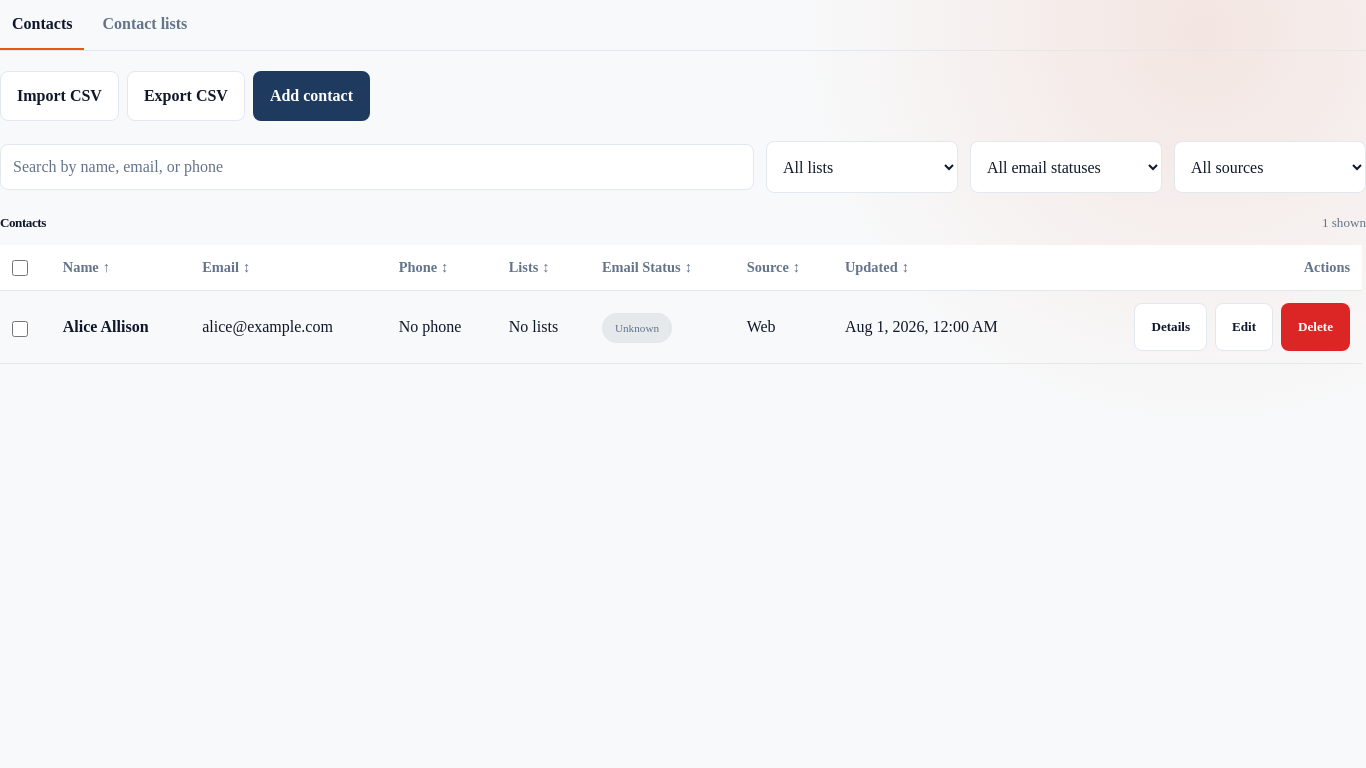
Test: ContactsPage list synchronization (#168) › updates list count and removes row immediately after deleting a contact without manual reload
Expected: the text "1 shown" is shown, 1322,213 -> 1365,233
Step 1. Click the button with aria-label "Delete Alice Allison" → (1316, 327), box 1281,303 -> 1350,351
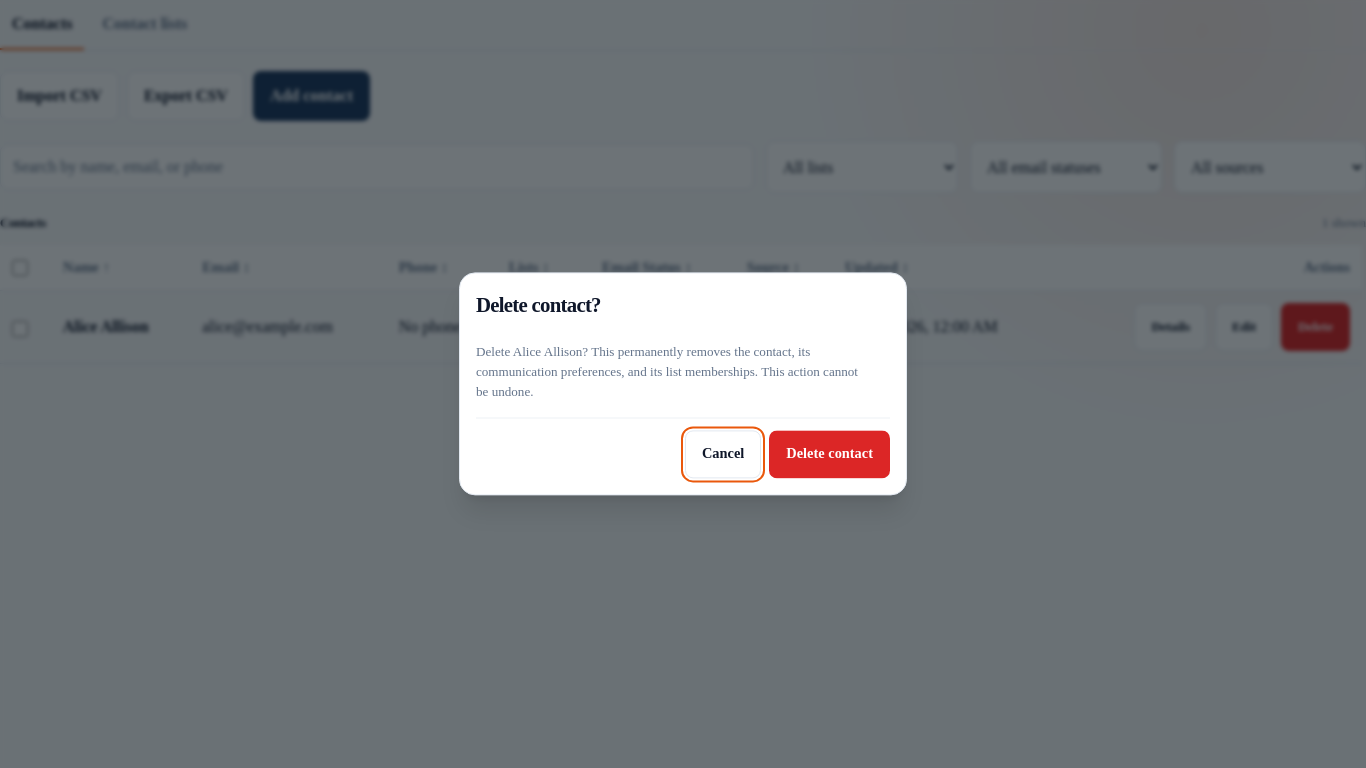
Expected: the dialog "Delete contact?" is shown, 459,272 -> 907,496
Step 2. Click the button "Delete contact" → (830, 455), box 769,431 -> 890,479
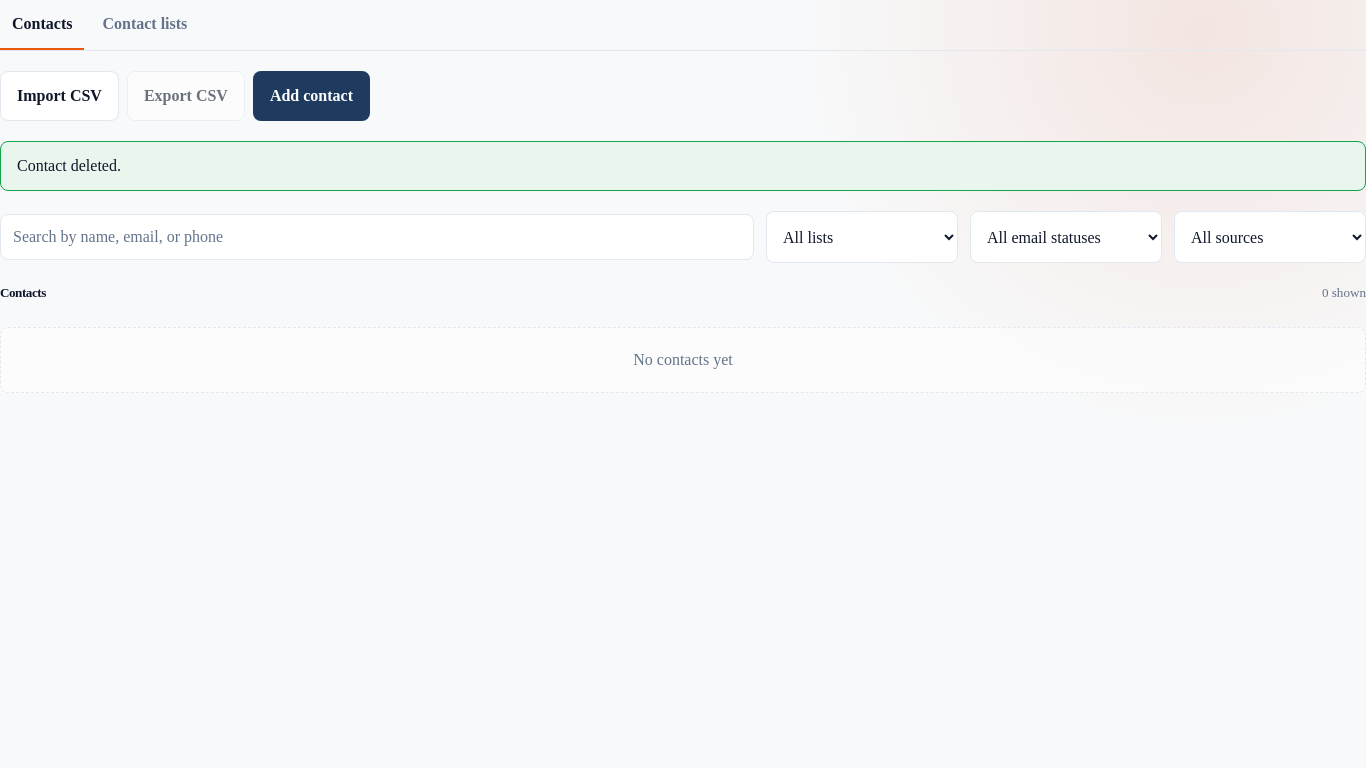
Expected: the dialog is gone
Expected: the text "Contact deleted." is shown, 0,141 -> 1365,191
Expected: the text "0 shown" is shown, 1322,283 -> 1365,303
